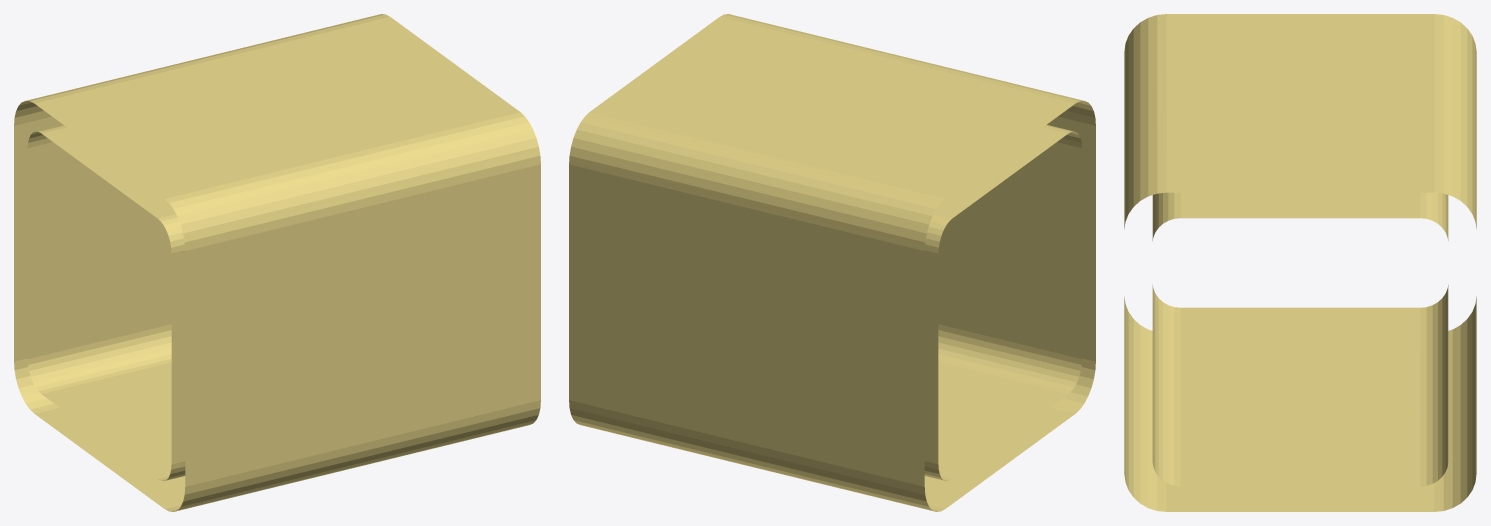
File: RailRight_10.obj
3 renders of one model, left to right at view 1: azimuth 30°, elevation 25°; view 2: azimuth 150°, elevation 25°; view 3: azimuth 270°, elevation 25°, orthographic. The views are drawn at different scales.
Visible parts, largest first — view 1: RailRight_10_15; view 2: RailRight_10_15; view 3: RailRight_10_15.
Boxes of the visible parts, x1,y1,x2,y2 form: RailRight_10_15: (14, 14, 540, 511); RailRight_10_15: (569, 14, 1095, 511); RailRight_10_15: (1124, 14, 1476, 511).
Bounding box in the file's own units: 0.03 × 0.025 × 0.025.
